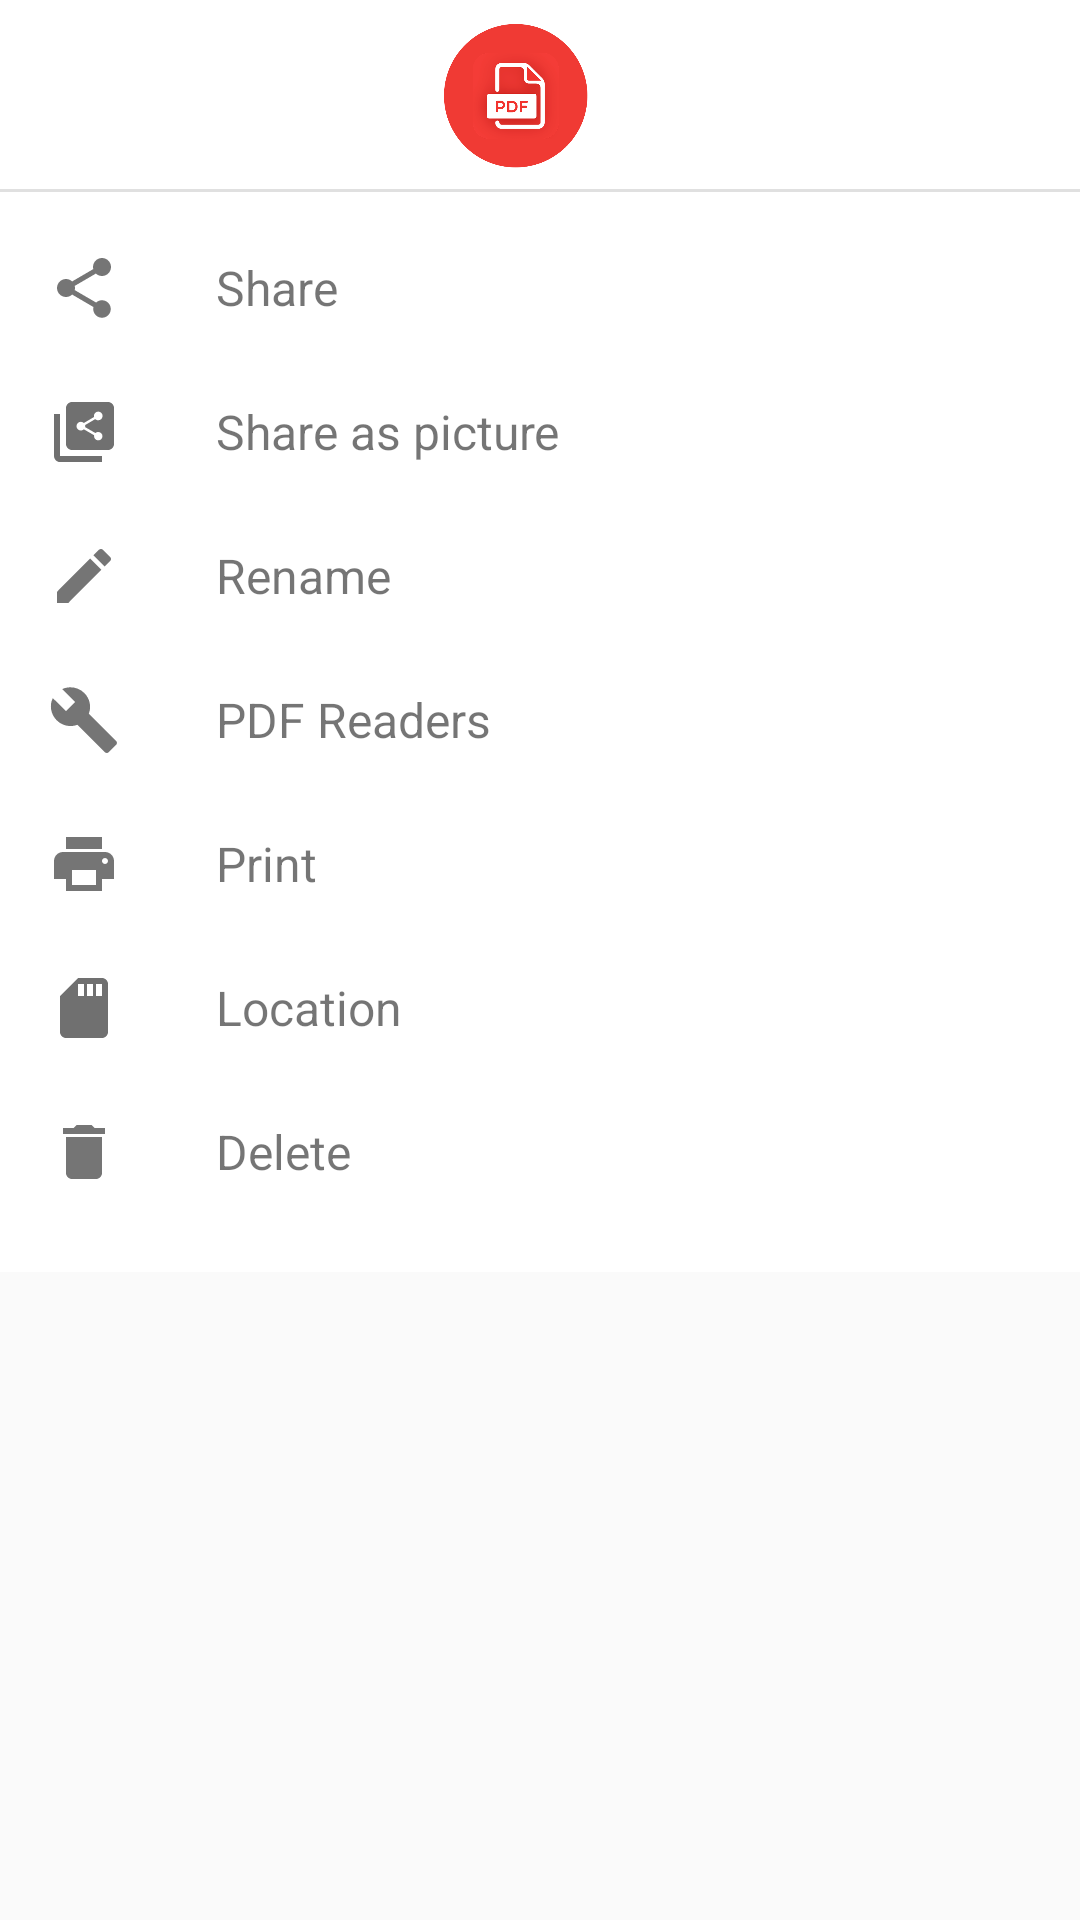

Where icons sit on this 1080×1920 app screen, as (x1, y1, x2, y2):
pdf tools: (51, 687, 117, 753)
